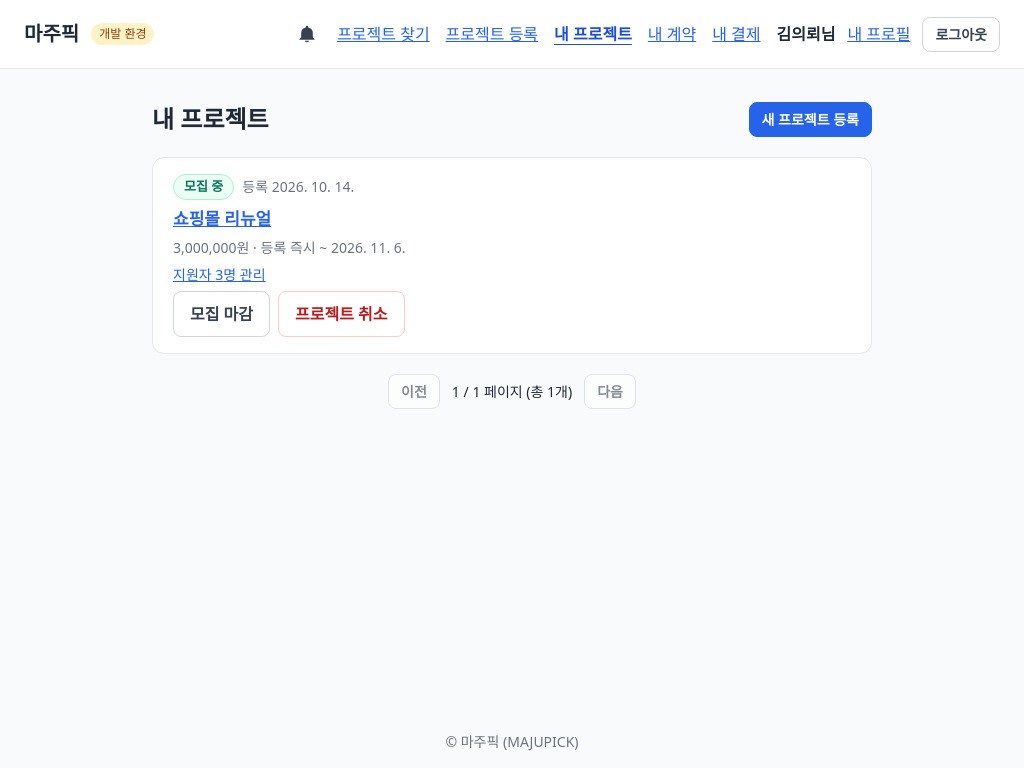
Test: project cancel (client, STAT-02) › keeps the dialog open with the server message when the cancel is refused
This screenshot has width=1024, height=768.
Click the button "프로젝트 취소" at (341, 314), box [278,291,404,337]
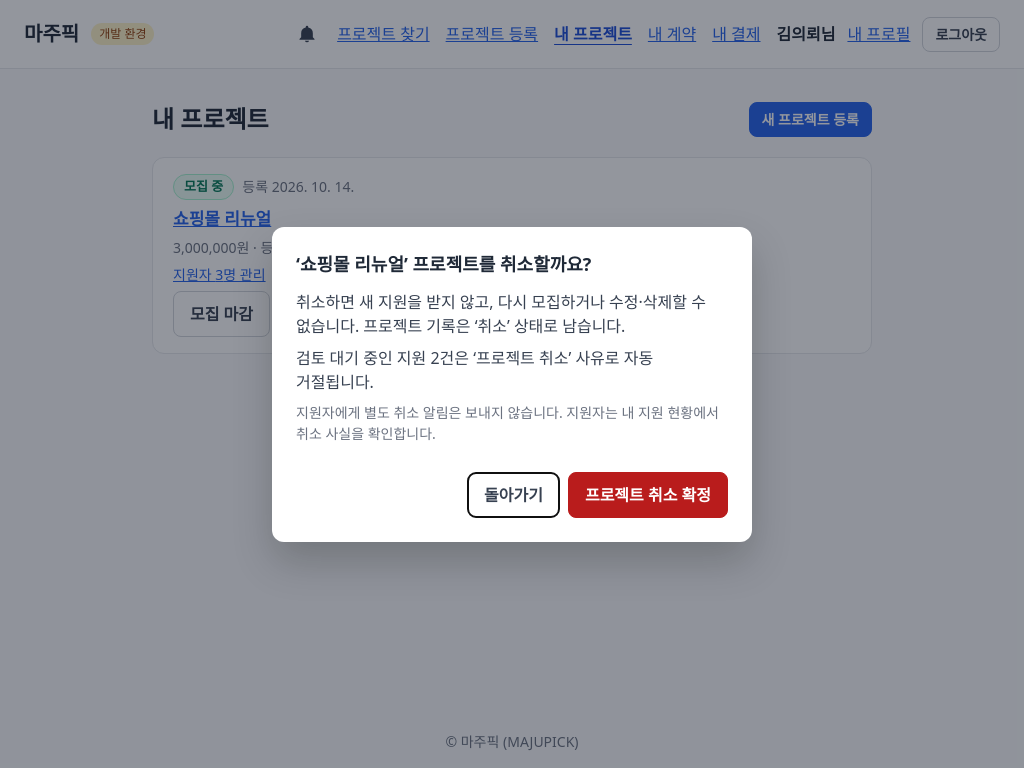
Click the button "프로젝트 취소 확정" at (648, 494), box [568,472,728,518]
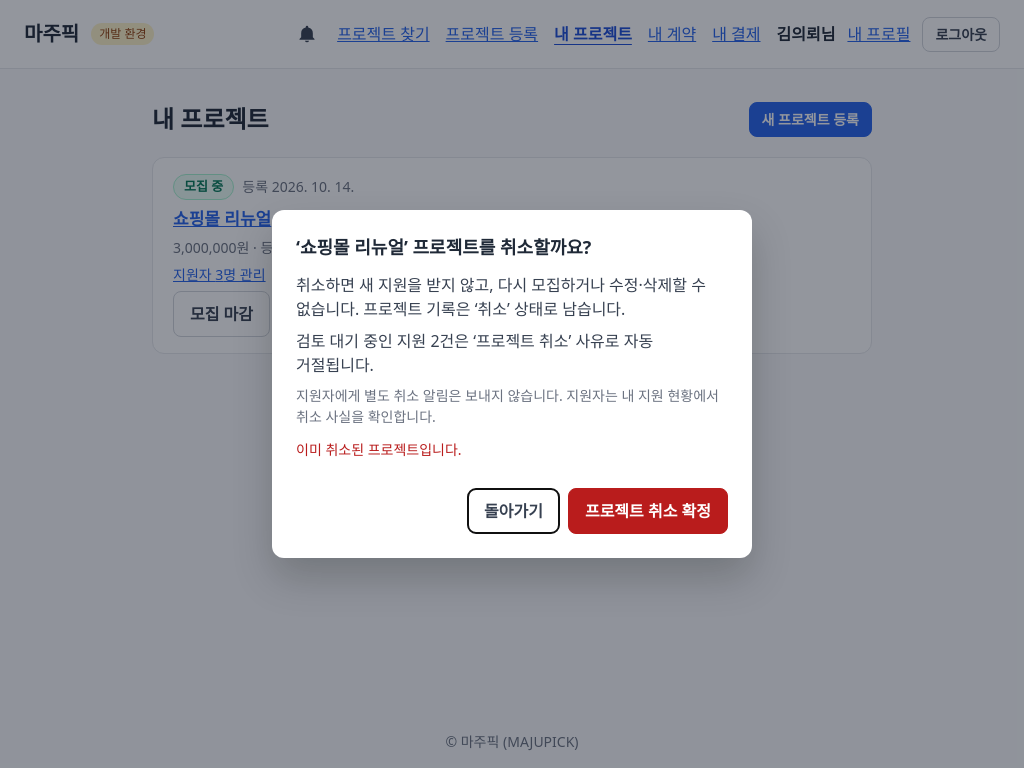
Check: the button "프로젝트 취소 확정" is shown, box [568,488,728,534]
Check: the message "이미 취소된 프로젝트입니다." is shown, box [296,440,462,459]
